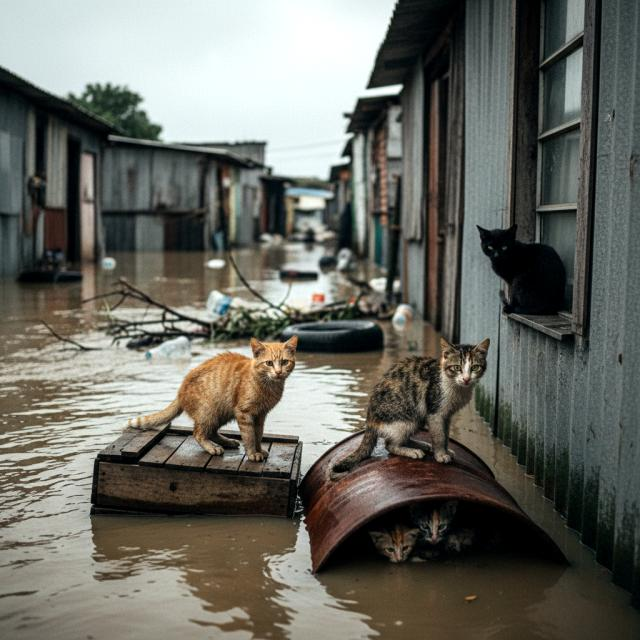cat: (121, 333, 309, 471), (328, 330, 496, 483), (473, 218, 571, 328), (406, 491, 466, 563), (372, 523, 419, 567)
